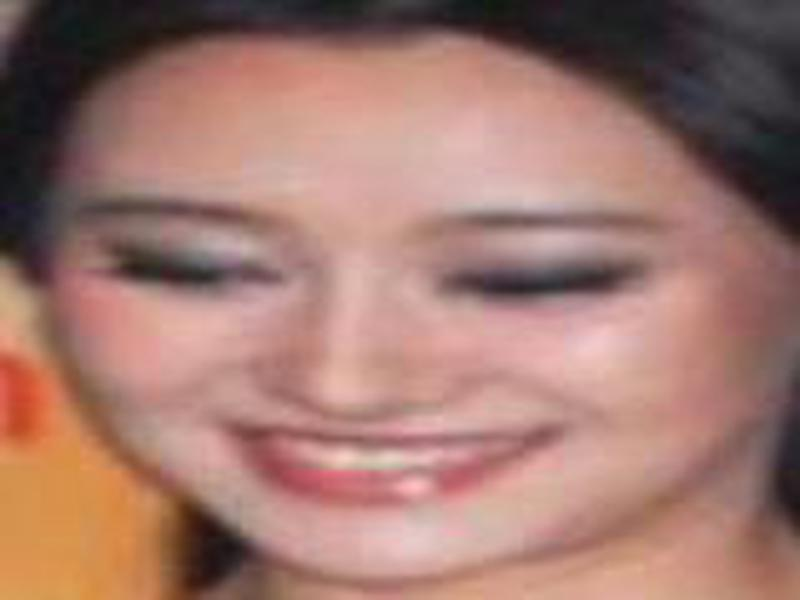without_mask: (48, 93, 733, 585)
